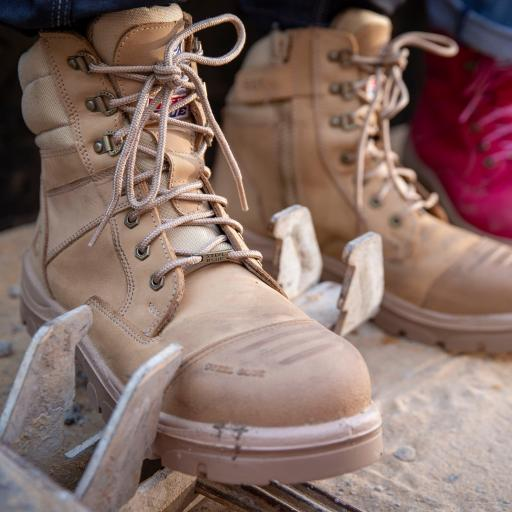safety_boots: (18, 17, 411, 500), (228, 13, 512, 331)
